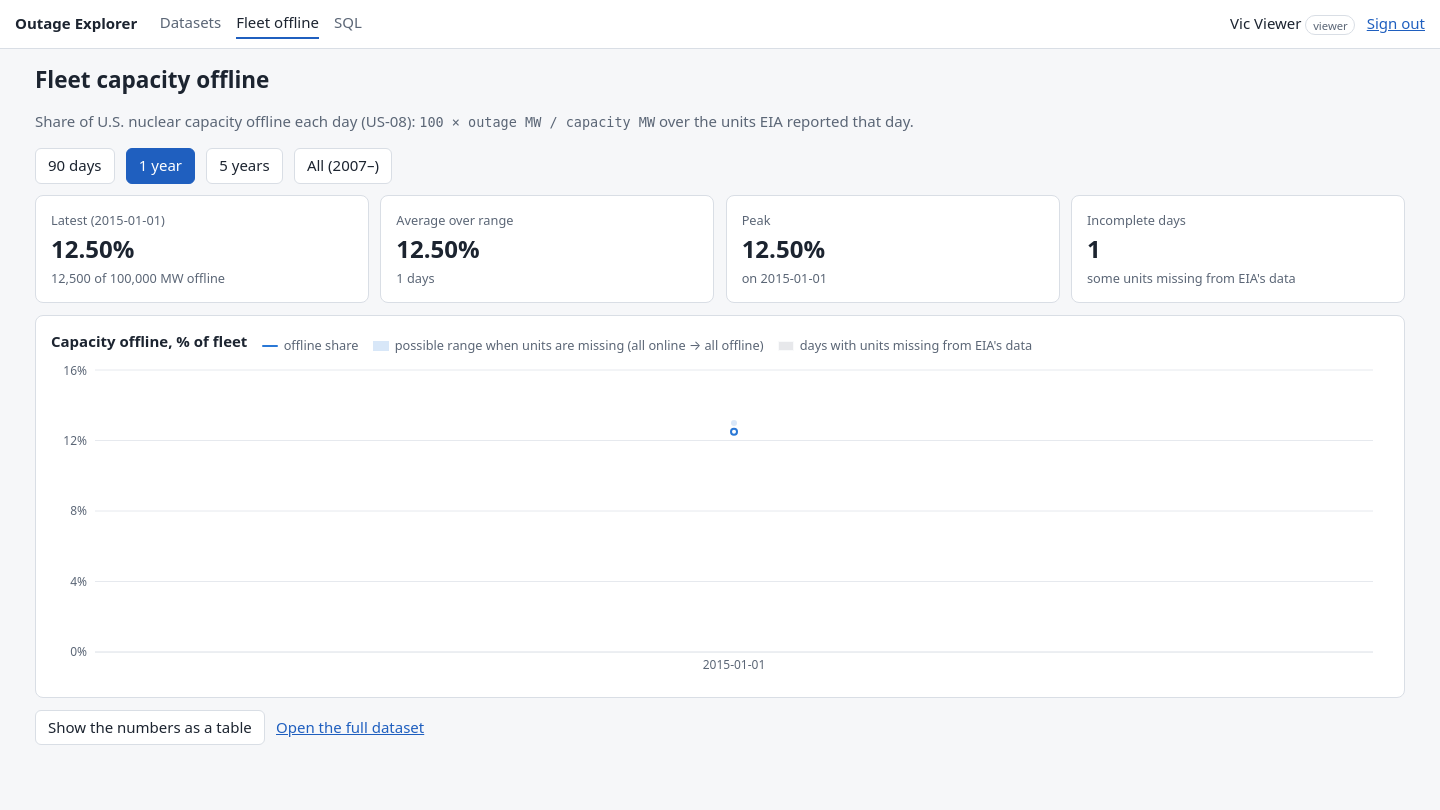
Test case: fleet offline (US-08) › offers the numbers as a table
Click the button "Show the numbers as a table" at [150, 728], box [35,710,265,745]
(page scrolled)
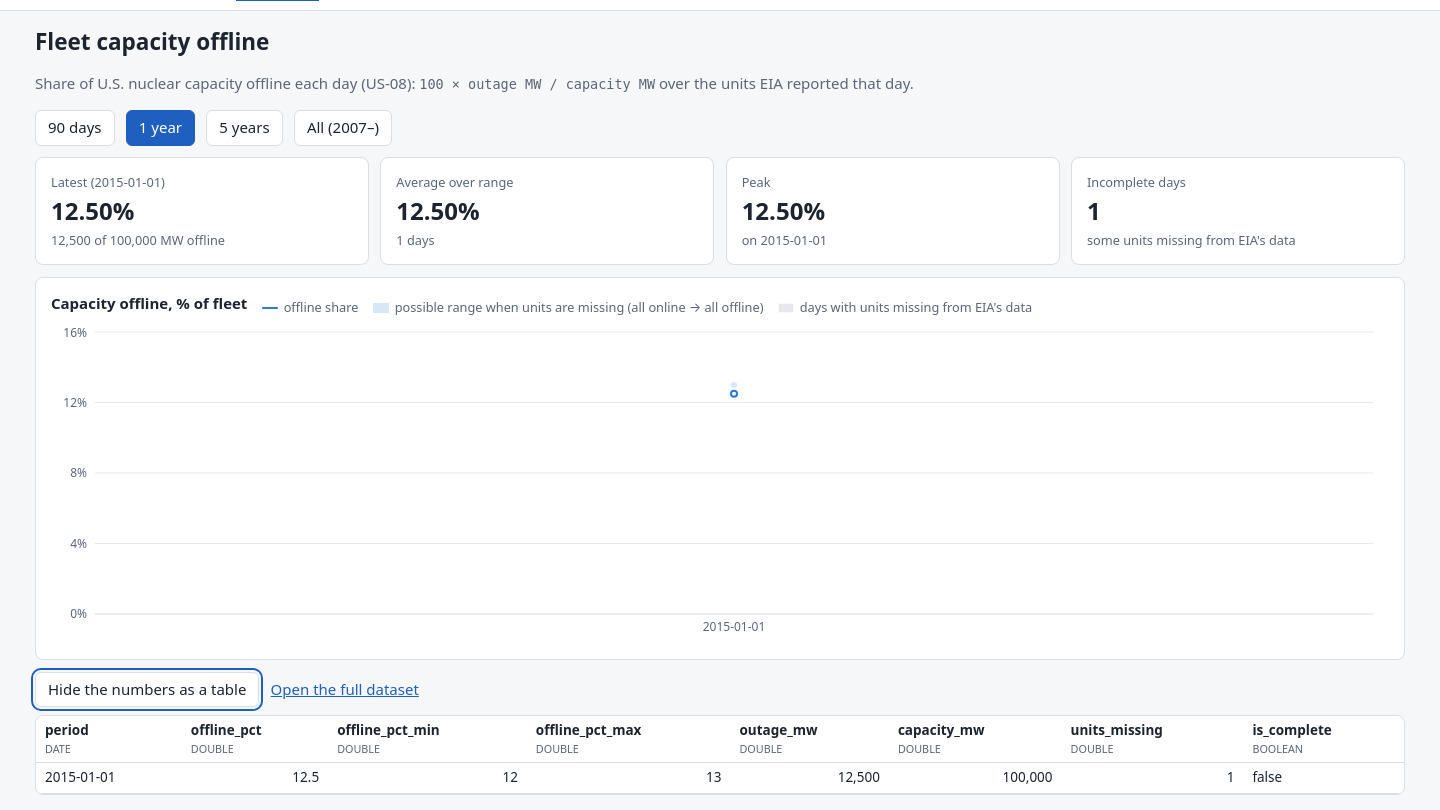
expect the column heading "offline_pct_max" is shown: met, box [536,721,641,739]
expect the text "13" is shown: met, box [527,763,730,793]
